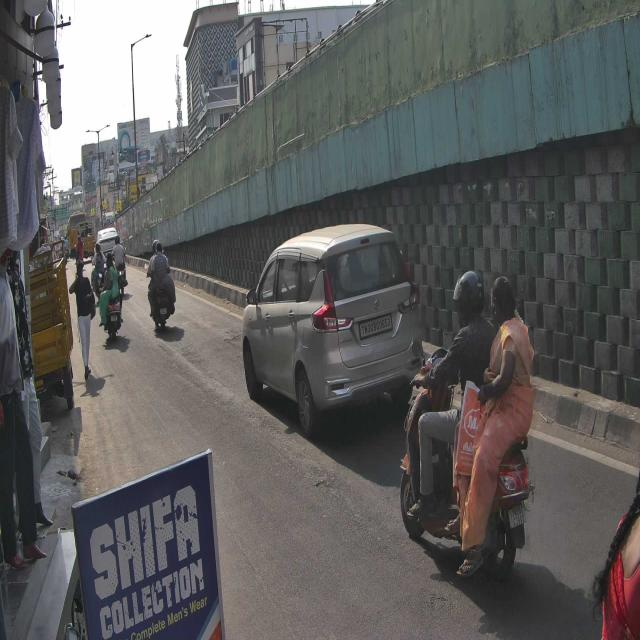double_rider: (399, 270, 537, 582)
